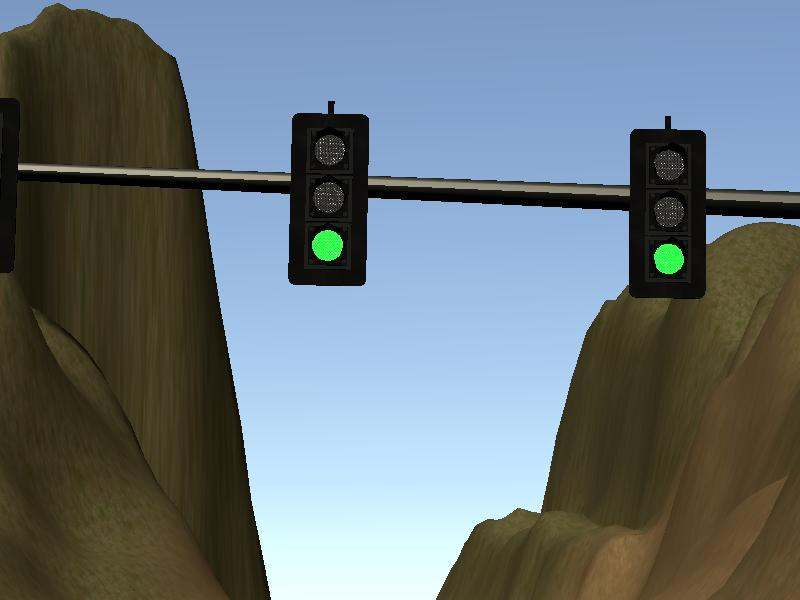Green: (629, 130, 706, 296), (293, 113, 364, 283)
